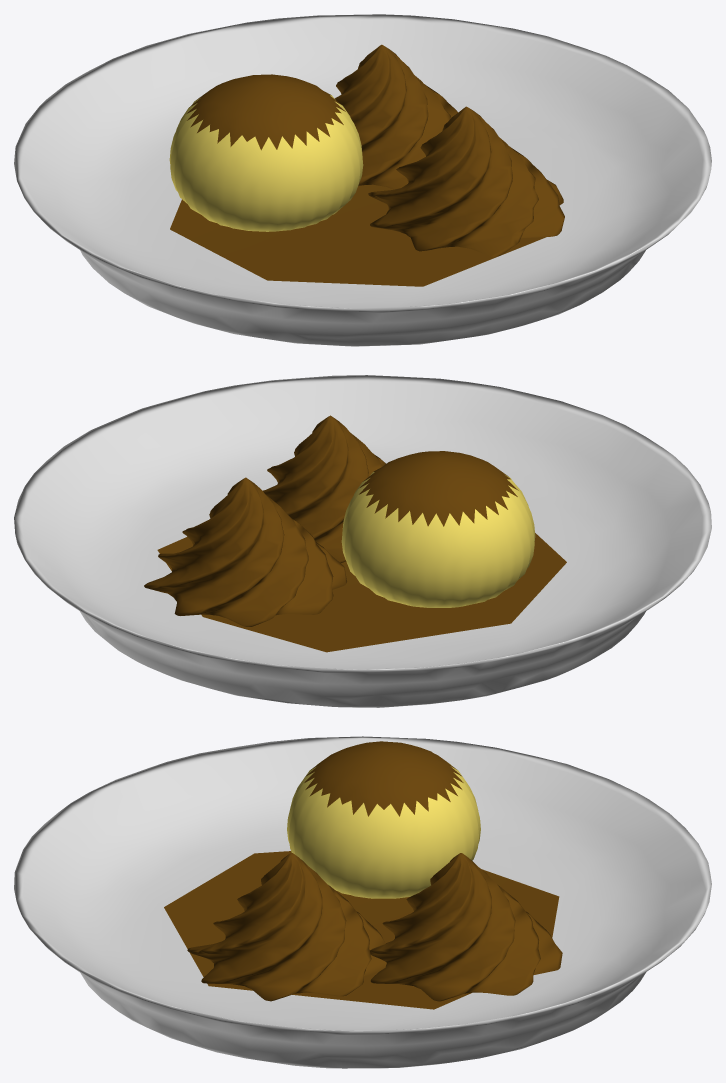
The model's file is Flan con ddl.fbx.
The picture shows the model from 3 angles, top to bottom: view 1: azimuth 30°, elevation 25°; view 2: azimuth 150°, elevation 25°; view 3: azimuth 270°, elevation 25°; orthographic projection.
Visible parts, largest first — view 1: Star.011; view 2: Star.011; view 3: Star.011.
Part boxes in pixels (x1,y1,x2,y2): Star.011: (14, 14, 711, 346); Star.011: (14, 375, 711, 707); Star.011: (14, 736, 711, 1068).
Size of the model in its own units: 226 by 56.11 by 226.
